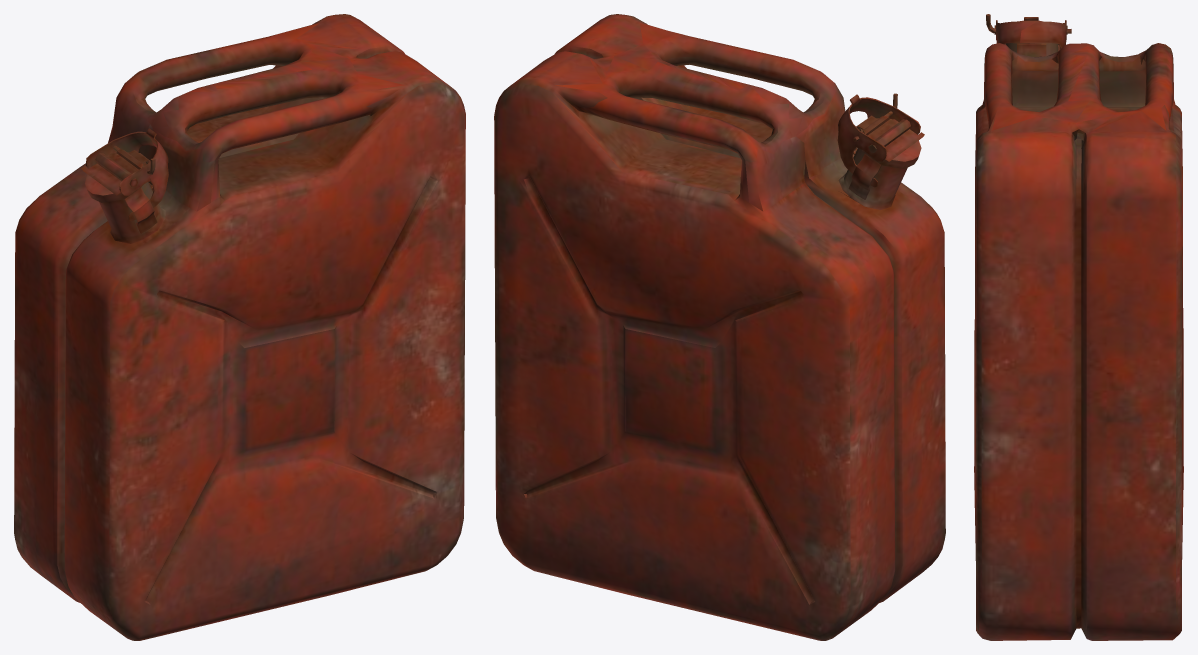
Rendered from metal_jerrycan.glb.
The picture shows the model from 3 angles, left to right: view 1: azimuth 30°, elevation 25°; view 2: azimuth 150°, elevation 25°; view 3: azimuth 270°, elevation 25°; orthographic projection. The views are drawn at different scales.
Parts seen in each view (by area): view 1: metal_jerrycan; view 2: metal_jerrycan; view 3: metal_jerrycan.
Part boxes in pixels (x1,y1,x2,y2): metal_jerrycan: (14, 14, 465, 640); metal_jerrycan: (494, 14, 945, 640); metal_jerrycan: (974, 14, 1183, 640).
Bounding box in the file's own units: 0.35 × 0.455 × 0.172.
Materials: 1 (1 with a texture image).
